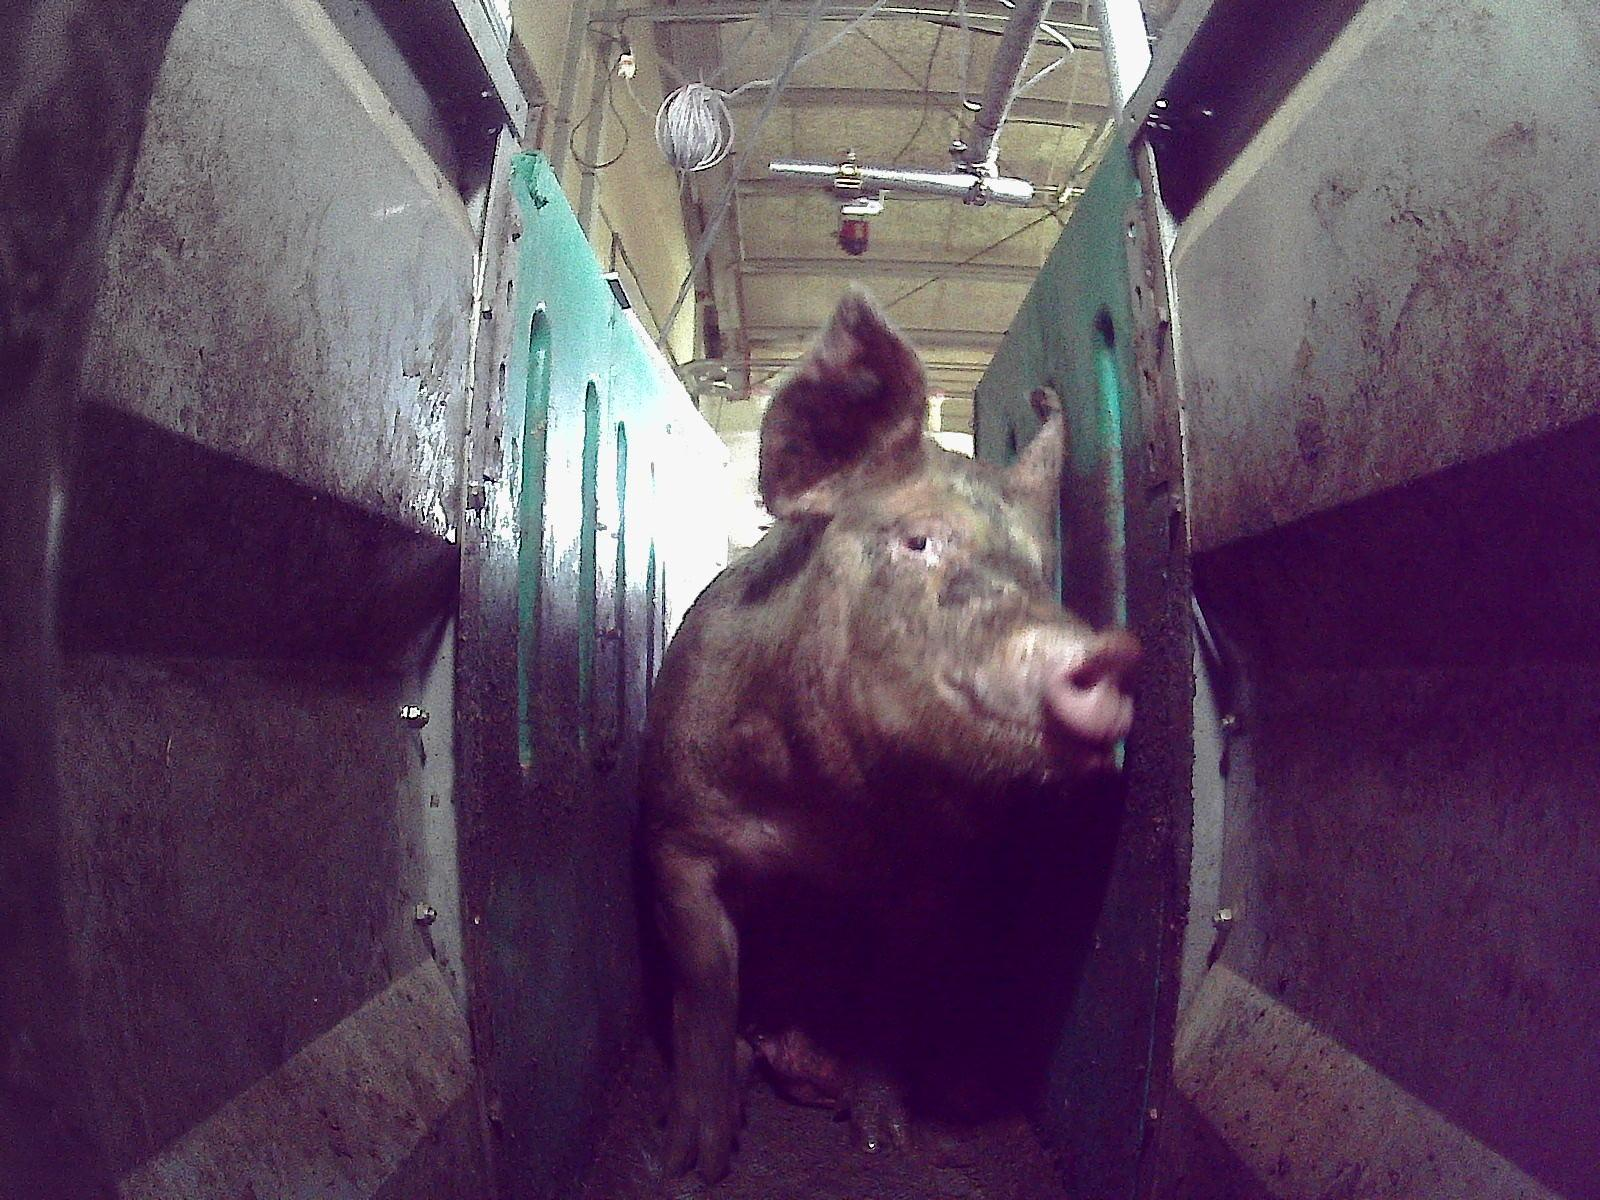Face: (769, 441, 1147, 817)
